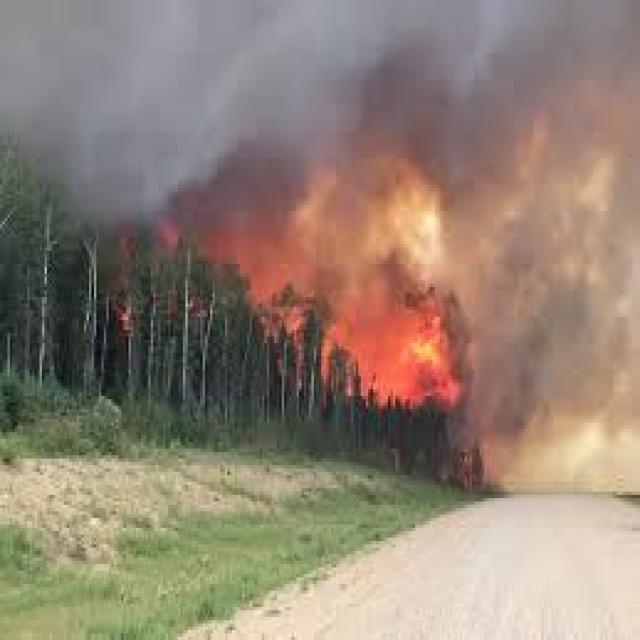Fire: (151, 184, 494, 416), (118, 225, 138, 295), (116, 298, 140, 334)
Smoke: (0, 2, 640, 220), (452, 218, 640, 492)
